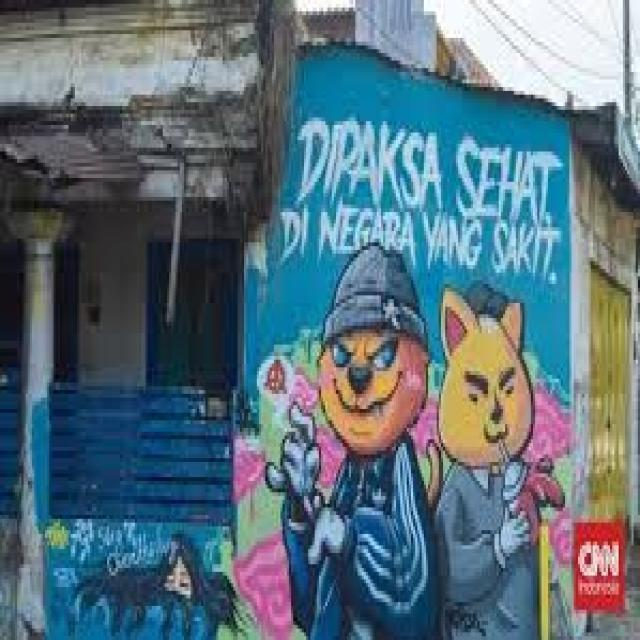-: (283, 116, 564, 640), (77, 530, 234, 640), (239, 343, 289, 640)
